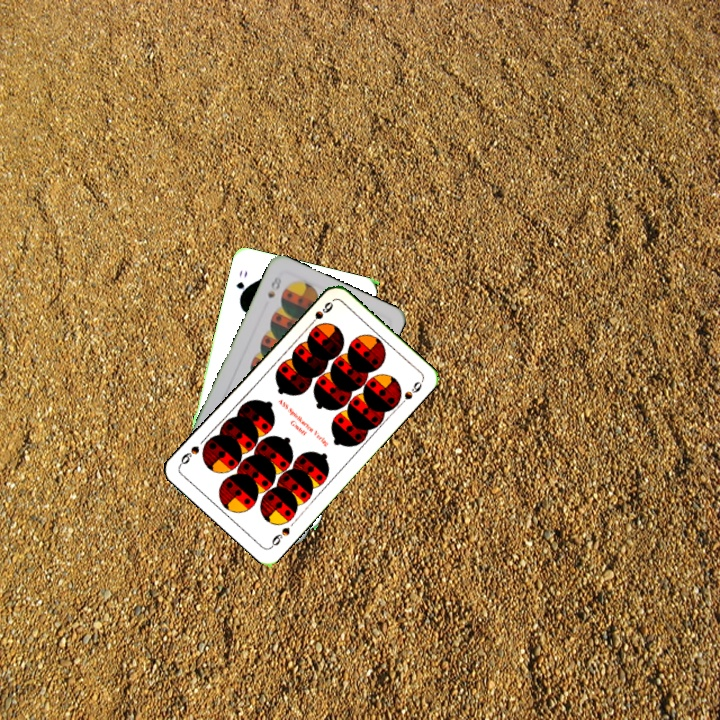GO: (232, 266, 250, 303)
S8: (263, 272, 284, 301)
S9: (304, 297, 336, 330), (267, 523, 293, 551)
